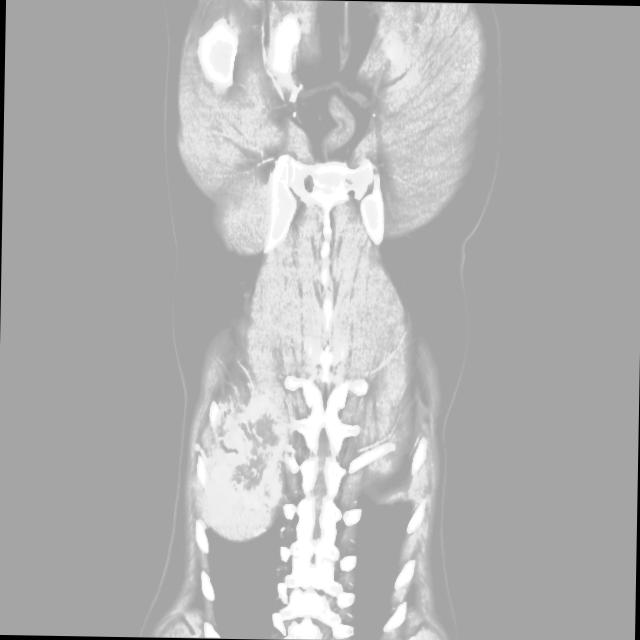TUMOR: (148, 228, 481, 511)
